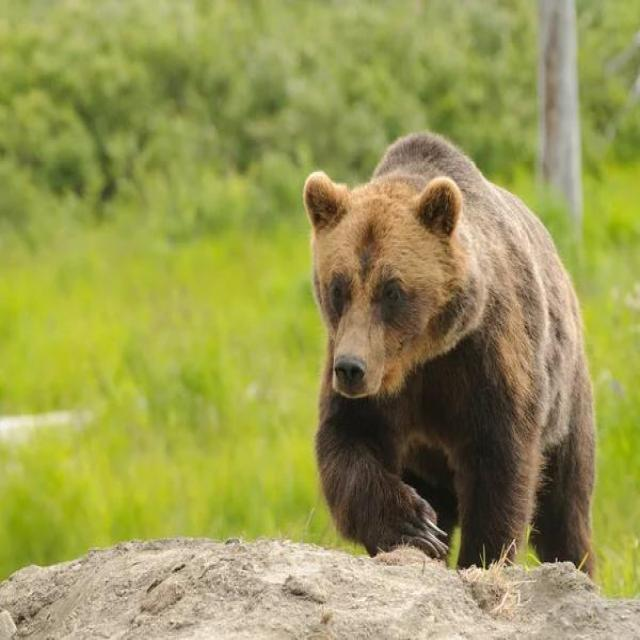Bear: (302, 133, 597, 578)
